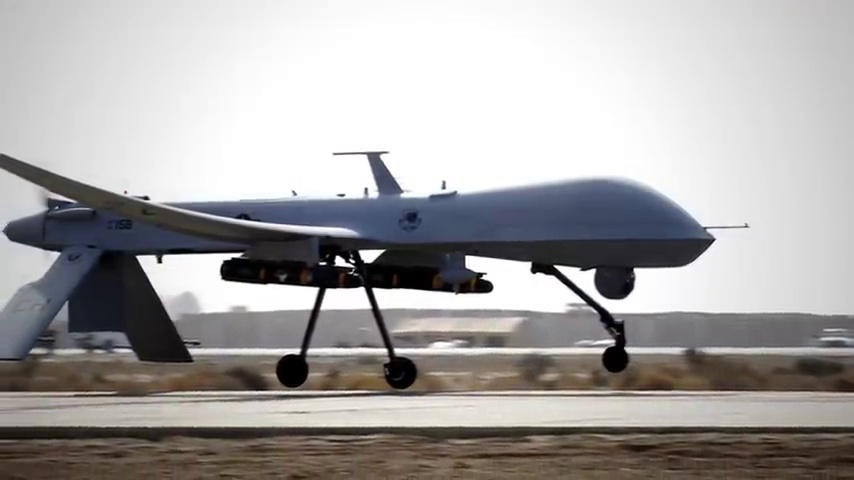military drone: (0, 151, 750, 389)
